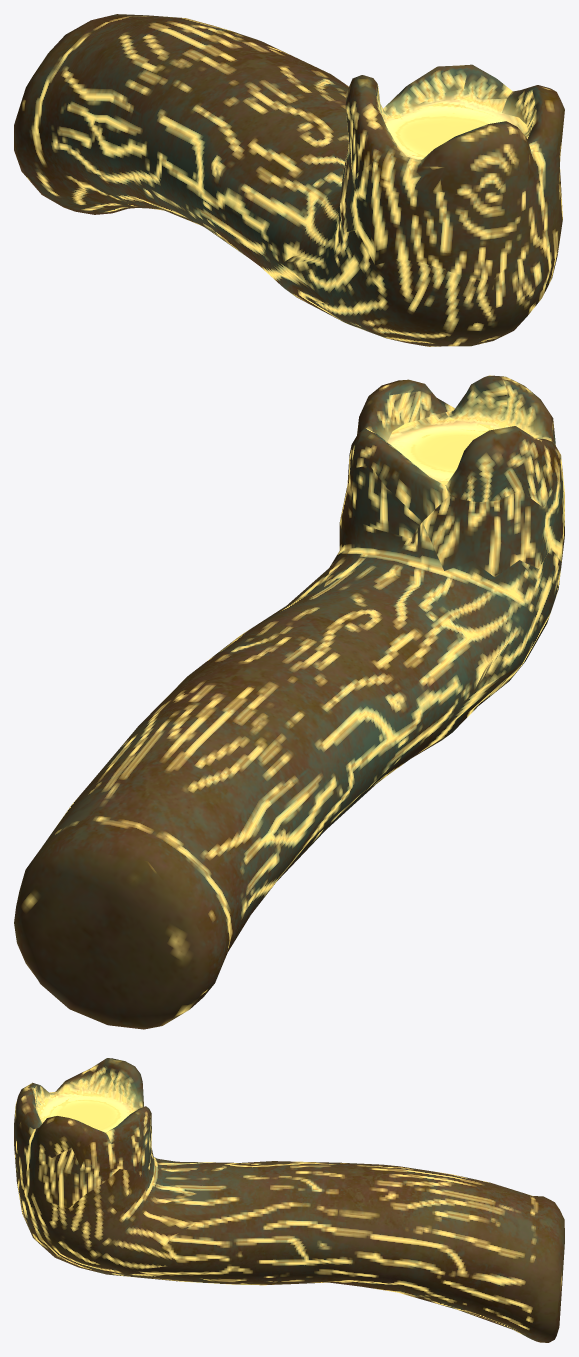
Rendered from WoodPlatformPatch.fbx.
The picture shows the model from 3 angles, top to bottom: view 1: azimuth 30°, elevation 25°; view 2: azimuth 150°, elevation 25°; view 3: azimuth 270°, elevation 25°; orthographic projection. The views are drawn at different scales.
Visible parts, largest first — view 1: mdl_plat1_lp.004; view 2: mdl_plat1_lp.004; view 3: mdl_plat1_lp.004.
Part boxes in pixels (x1,y1,x2,y2): mdl_plat1_lp.004: [14, 14, 564, 346]; mdl_plat1_lp.004: [14, 375, 564, 1029]; mdl_plat1_lp.004: [14, 1058, 564, 1342].
Size of the model in its own units: 40.32 by 143 by 72.34.
